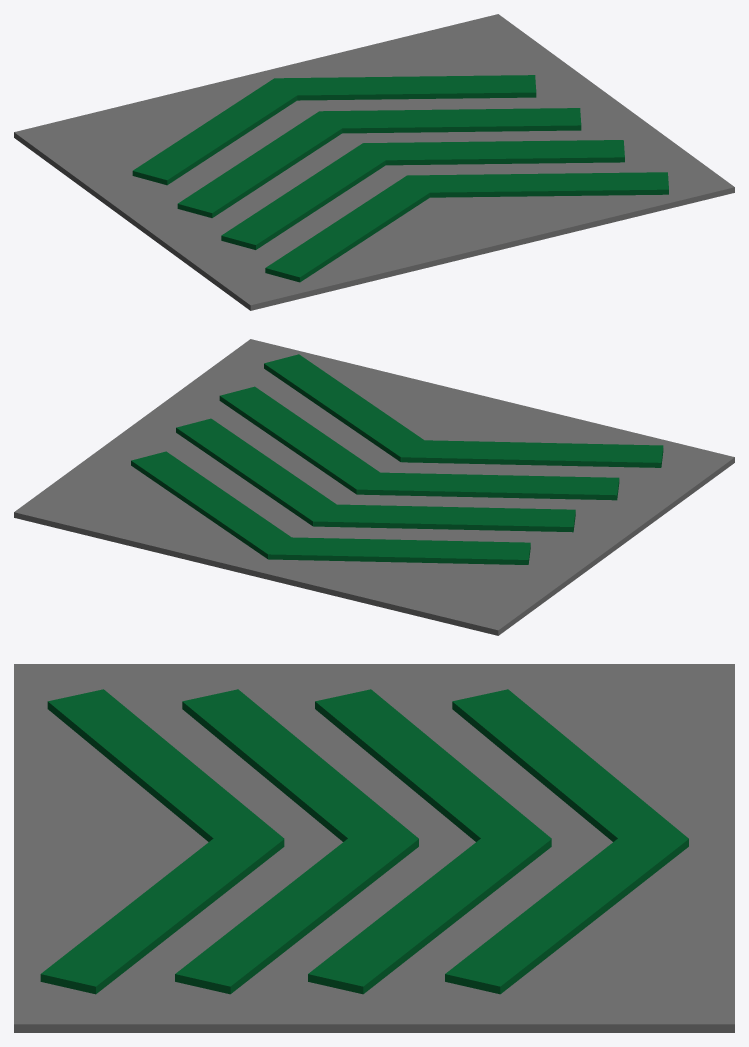
The model's file is Impulsor.fbx.
3 renders of one model, top to bottom at view 1: azimuth 30°, elevation 25°; view 2: azimuth 150°, elevation 25°; view 3: azimuth 270°, elevation 25°, orthographic. The views are drawn at different scales.
Visible parts, largest first — view 1: pCube1, pasted__pasted__pasted__pCube1 (×2), pasted__pasted__pCube1 (×2), pasted__pasted__pasted__pasted__pCube1 (×2), pasted__pasted__pasted__pasted__pasted__pCube1, pasted__pCube1; view 2: pCube1, pasted__pasted__pasted__pasted__pCube1 (×2), pasted__pasted__pasted__pCube1 (×2), pasted__pasted__pCube1 (×2), pasted__pCube1, pasted__pasted__pasted__pasted__pasted__pCube1; view 3: pCube1, pasted__pasted__pCube1 (×2), pasted__pasted__pasted__pasted__pCube1 (×2), pasted__pasted__pasted__pCube1 (×2), pasted__pasted__pasted__pasted__pasted__pCube1, pasted__pCube1.
Part boxes in pixels (bbox=[...]): pCube1: bbox=[14, 14, 734, 310]; pasted__pasted__pasted__pCube1 (×2): bbox=[177, 111, 624, 217]; pasted__pasted__pCube1 (×2): bbox=[221, 143, 668, 249]; pasted__pasted__pasted__pasted__pCube1 (×2): bbox=[132, 78, 581, 185]; pasted__pasted__pasted__pasted__pasted__pCube1: bbox=[275, 75, 536, 100]; pasted__pCube1: bbox=[265, 175, 434, 282]; pCube1: bbox=[14, 339, 734, 635]; pasted__pasted__pasted__pasted__pCube1 (×2): bbox=[176, 418, 530, 564]; pasted__pasted__pasted__pCube1 (×2): bbox=[219, 386, 575, 532]; pasted__pasted__pCube1 (×2): bbox=[264, 354, 619, 500]; pasted__pCube1: bbox=[401, 440, 663, 467]; pasted__pasted__pasted__pasted__pasted__pCube1: bbox=[131, 451, 297, 558]; pCube1: bbox=[14, 664, 734, 1032]; pasted__pasted__pCube1 (×2): bbox=[40, 689, 418, 994]; pasted__pasted__pasted__pasted__pCube1 (×2): bbox=[308, 689, 688, 994]; pasted__pasted__pasted__pCube1 (×2): bbox=[175, 689, 551, 994]; pasted__pasted__pasted__pasted__pasted__pCube1: bbox=[445, 826, 688, 994]; pasted__pCube1: bbox=[47, 689, 284, 841].
Bounding box in the file's own units: 5.6 × 0.118 × 4.74.
